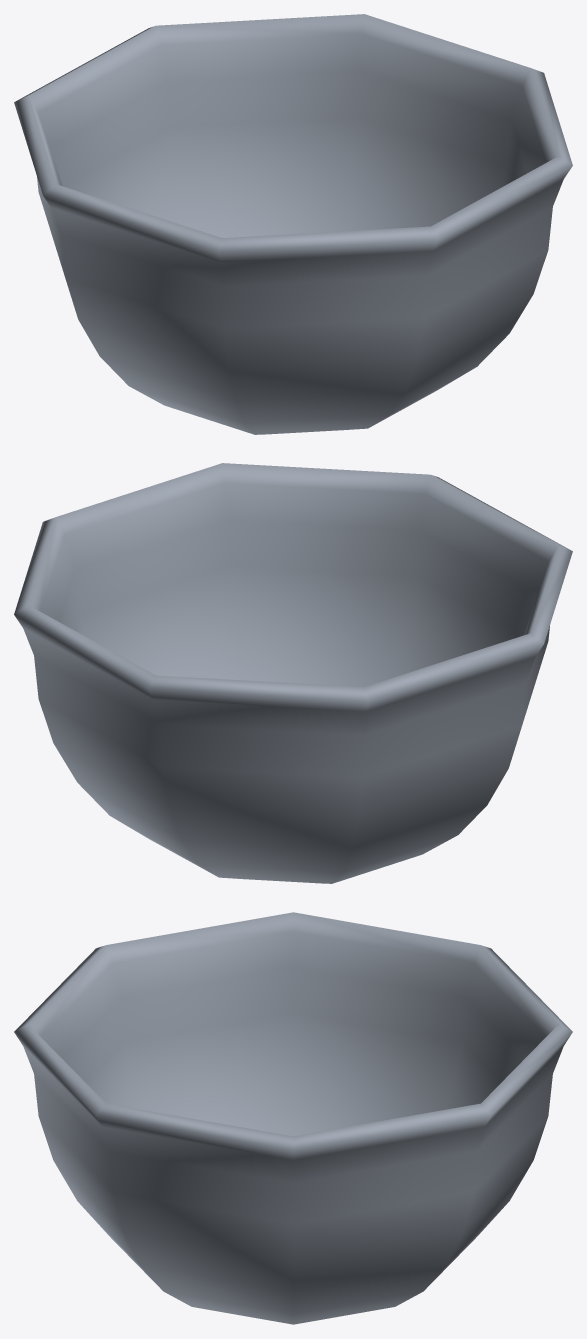
The model's file is Mixing Bowl.glb.
3 renders of one model, top to bottom at view 1: azimuth 30°, elevation 25°; view 2: azimuth 150°, elevation 25°; view 3: azimuth 270°, elevation 25°, orthographic. The views are drawn at different scales.
Parts seen in each view (by area): view 1: mbowl_mixing_bowl_Sphere.003; view 2: mbowl_mixing_bowl_Sphere.003; view 3: mbowl_mixing_bowl_Sphere.003.
Part boxes in pixels (<box>): mbowl_mixing_bowl_Sphere.003: <box>14,14,572,434</box>; mbowl_mixing_bowl_Sphere.003: <box>14,463,572,883</box>; mbowl_mixing_bowl_Sphere.003: <box>14,912,572,1324</box>.
Size of the model in its own units: 2.3 by 1.22 by 2.3.
Materials: 1 (1 with a texture image).
